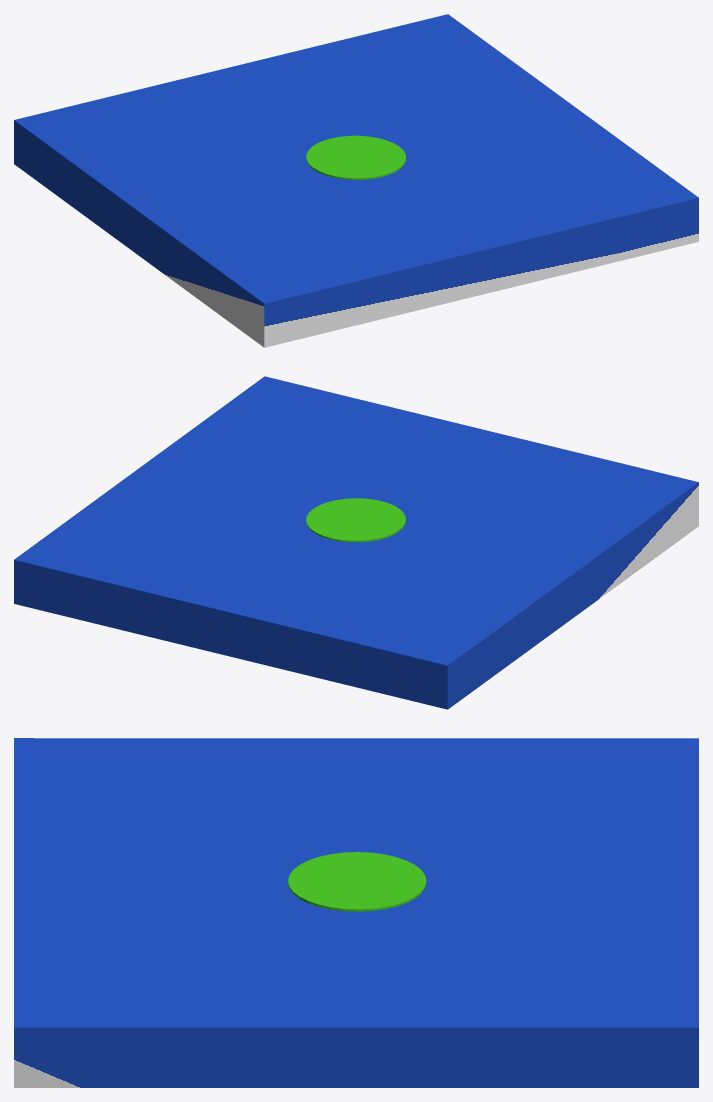
Rendered from platform1.dae.
3 renders of one model, top to bottom at view 1: azimuth 30°, elevation 25°; view 2: azimuth 150°, elevation 25°; view 3: azimuth 270°, elevation 25°, orthographic. The views are drawn at different scales.
Visible parts, largest first — view 1: Platform.001; view 2: Platform.001; view 3: Platform.001.
Boxes of the visible parts, x1,y1,x2,y2 form: Platform.001: (14,14,698,347); Platform.001: (14,376,698,709); Platform.001: (14,738,698,1087).
Size of the model in its own units: 1 by 1 by 0.1006.
1 material, 1 textured.
